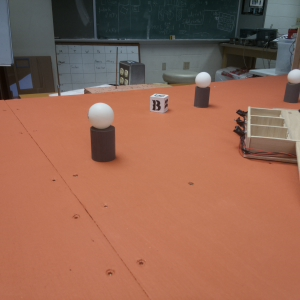obstacle: (87, 99, 120, 164), (192, 69, 213, 110), (287, 68, 299, 102)
side: (233, 102, 293, 161)
